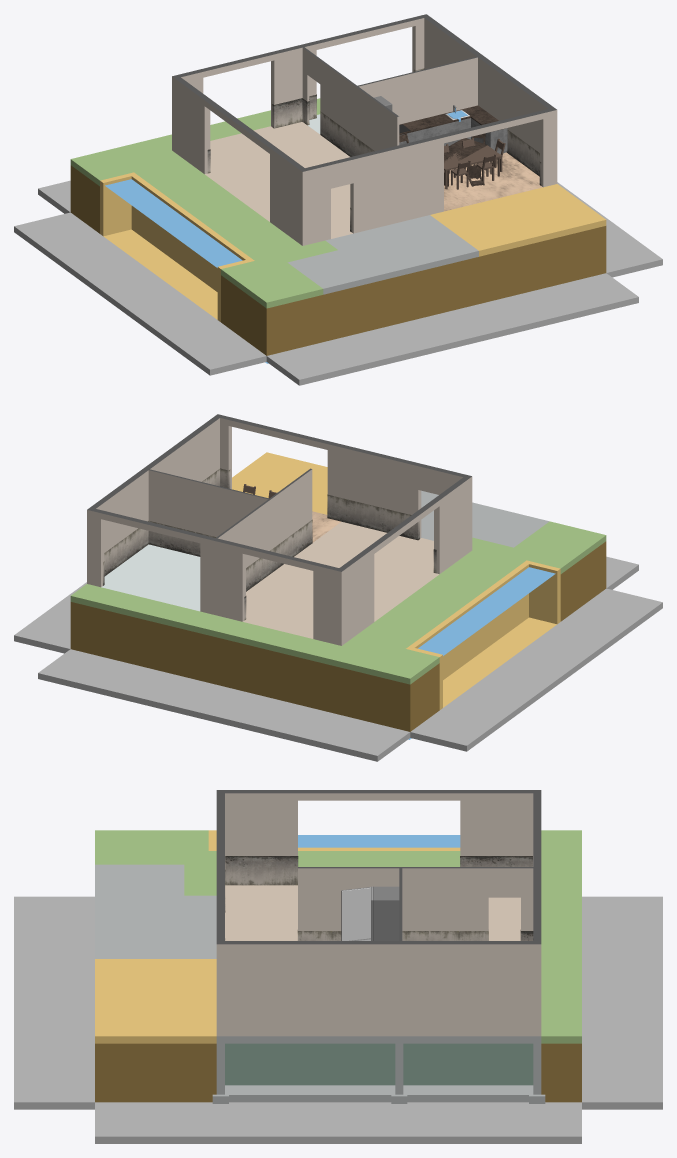
Rendered from POC_cuisine.glb.
3 views of the same model, one above another, from view 1: azimuth 30°, elevation 25°; view 2: azimuth 150°, elevation 25°; view 3: azimuth 270°, elevation 25° (orthographic). The views are drawn at different scales.
Visible parts, largest first — view 1: Terrain, Murs, Bordure_maquette, Cloisons, Piscine, Sol_salon, Eau_piscine, Salissure_interieure, cuisine_sol_abime, cuisine_plan_de_travail_abime, cuisine_table_et_chaises_intact, cuisine_table_et_chaises_abime; view 2: Terrain, Murs, Bordure_maquette, Cloisons, Sol_salon, Piscine, Salissure_interieure, Sol_sdb, Eau_piscine; view 3: Terrain, Bordure_maquette, Murs, Cloisons, Sol_salon, Salissure_interieure, Eau_piscine, cuisine_frigo_porte_abime, cuisine_frigo_intact, Piscine.
Boxes of the visible parts, x1,y1,x2,y2 form: Terrain: [70, 98, 606, 355]; Murs: [172, 14, 557, 245]; Bordure_maquette: [14, 180, 662, 385]; Cloisons: [302, 47, 477, 156]; Piscine: [100, 172, 254, 321]; Sol_salon: [205, 122, 352, 238]; Eau_piscine: [105, 179, 242, 267]; Salissure_interieure: [207, 68, 541, 231]; cuisine_sol_abime: [444, 152, 542, 211]; cuisine_plan_de_travail_abime: [399, 105, 507, 153]; cuisine_table_et_chaises_intact: [444, 137, 505, 189]; cuisine_table_et_chaises_abime: [399, 133, 487, 186]; Terrain: [70, 452, 606, 731]; Murs: [87, 414, 472, 645]; Bordure_maquette: [14, 556, 662, 761]; Cloisons: [148, 468, 312, 589]; Sol_salon: [243, 522, 439, 638]; Piscine: [406, 560, 560, 709]; Salissure_interieure: [103, 468, 436, 620]; Sol_sdb: [101, 544, 200, 611]; Eau_piscine: [418, 567, 555, 655]; Terrain: [95, 830, 581, 1103]; Bordure_maquette: [14, 896, 662, 1143]; Murs: [216, 790, 541, 1036]; Cloisons: [298, 867, 533, 940]; Sol_salon: [225, 885, 520, 940]; Salissure_interieure: [225, 856, 533, 940]; Eau_piscine: [298, 835, 460, 847]; cuisine_frigo_porte_abime: [341, 887, 372, 940]; cuisine_frigo_intact: [373, 886, 399, 940]; Piscine: [208, 830, 460, 850].
Bounding box in the file's own units: 16 × 4.6 × 16.
Materials: 22 (7 with a texture image).
